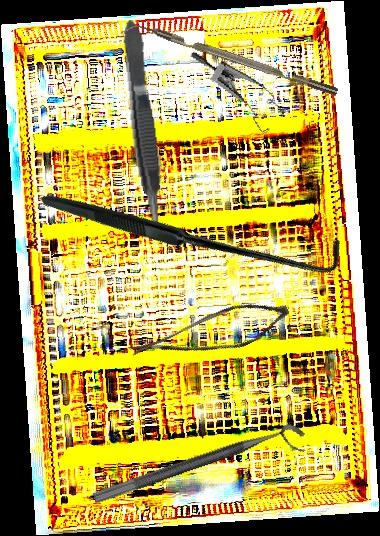Chopper: (120, 15, 339, 107)
Fixation Ring: (91, 420, 311, 521)
Hook Surgical: (38, 70, 352, 386)
Micro Scissor: (127, 277, 294, 393)
Speculum: (174, 49, 296, 139)
Tissue Forceps: (119, 18, 169, 239)
